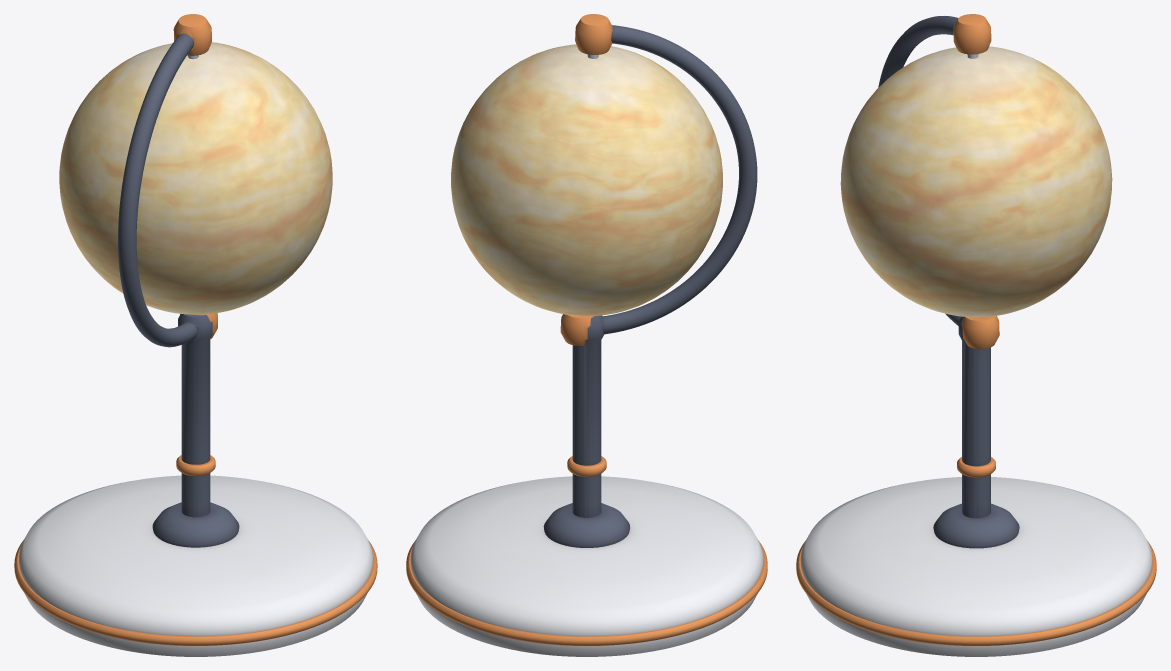
Rendered from venus.glb.
The picture shows the model from 3 angles, left to right: view 1: azimuth 30°, elevation 25°; view 2: azimuth 150°, elevation 25°; view 3: azimuth 270°, elevation 25°; orthographic projection.
Visible parts, largest first — view 1: venus_body, venus_sphere; view 2: venus_body, venus_sphere; view 3: venus_body, venus_sphere.
Part boxes in pixels (bbox=[...]): venus_body: bbox=[14, 14, 377, 656]; venus_sphere: bbox=[59, 42, 332, 314]; venus_body: bbox=[406, 14, 767, 656]; venus_sphere: bbox=[451, 44, 722, 316]; venus_body: bbox=[796, 14, 1156, 656]; venus_sphere: bbox=[840, 46, 1112, 317].
Bounding box in the file's own units: 0.2256 × 0.3946 × 0.2256.
Materials: 2 (2 with a texture image).
